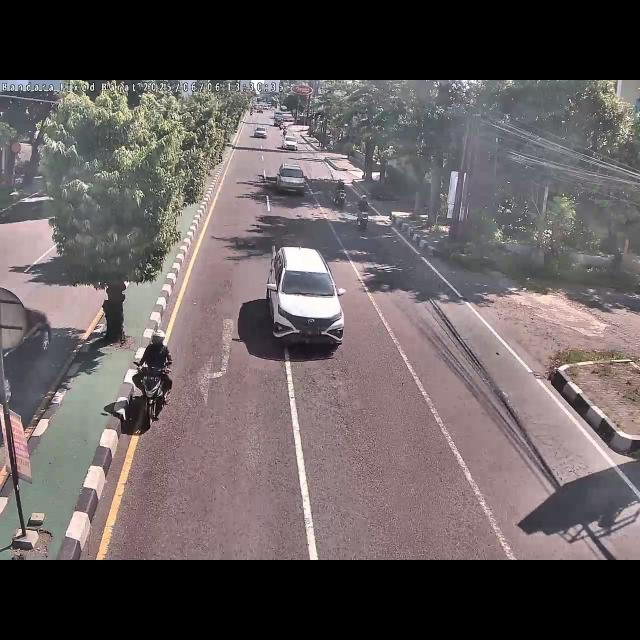Mobil: (260, 243, 350, 351), (274, 157, 310, 195)
Motor: (130, 329, 176, 428), (353, 190, 372, 233), (330, 177, 350, 215)
